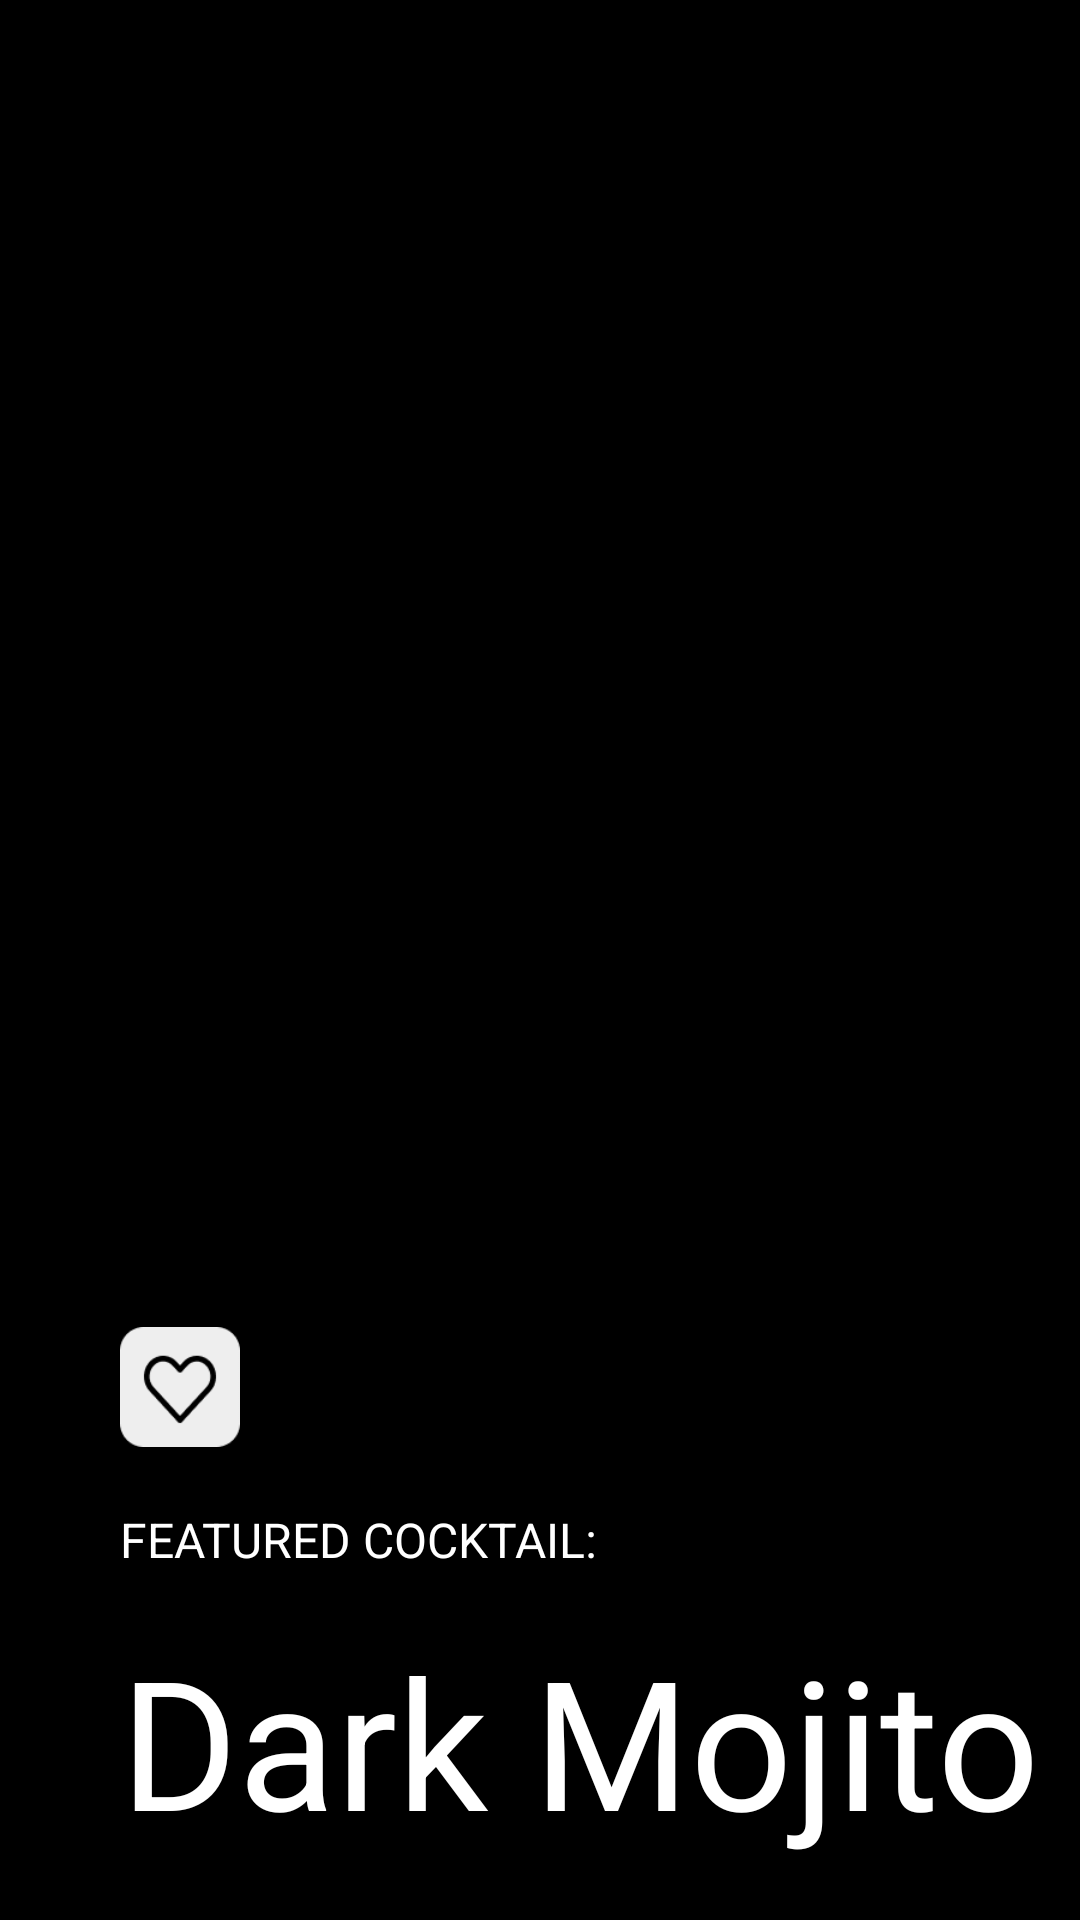

Icons on this 1080px×1920px Android screen, each with its box as [left=x1, top=y1, right=x2, bottom=y2]:
heart base: [left=120, top=1327, right=240, bottom=1447]
